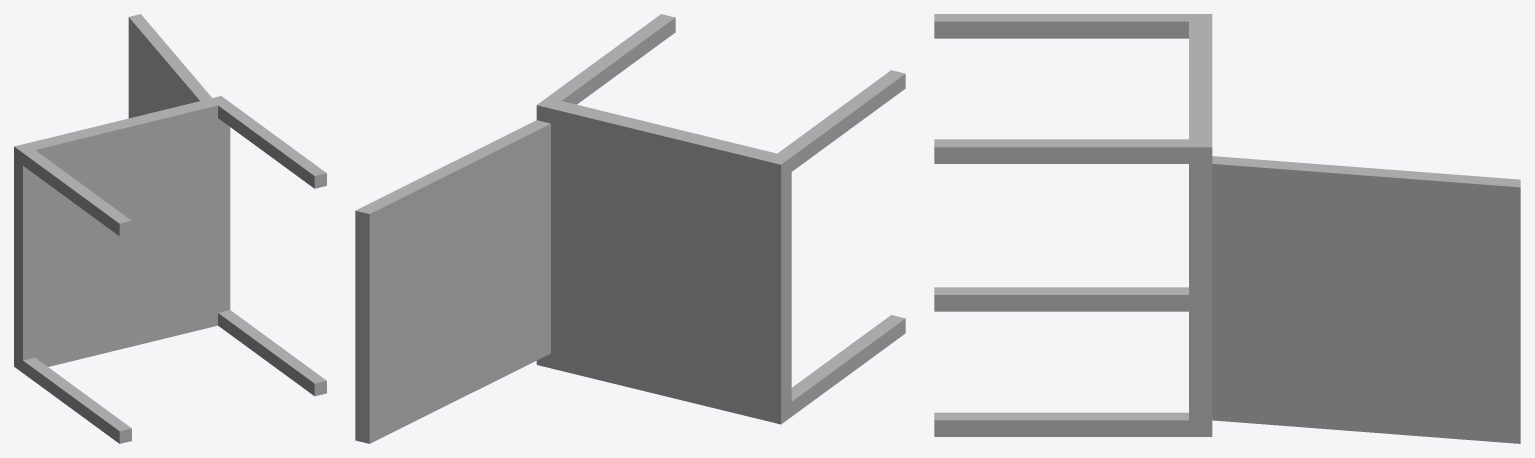
File: store-plastic-chair.obj
The picture shows the model from 3 angles, left to right: view 1: azimuth 30°, elevation 25°; view 2: azimuth 150°, elevation 25°; view 3: azimuth 270°, elevation 25°; orthographic projection. The views are drawn at different scales.
Parts seen in each view (by area): view 1: store-plastic-chair_Circle.019; view 2: store-plastic-chair_Circle.019; view 3: store-plastic-chair_Circle.019.
Part boxes in pixels (<box>): store-plastic-chair_Circle.019: <box>14,14,326,443</box>; store-plastic-chair_Circle.019: <box>355,14,905,443</box>; store-plastic-chair_Circle.019: <box>934,14,1520,443</box>.
Bounding box in the file's own units: 0.6178 × 0.5331 × 0.977.
